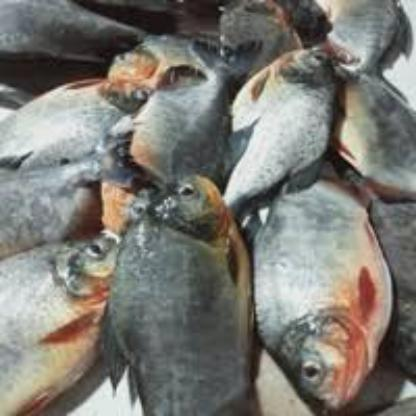ikan-pacu: (112, 177, 252, 415), (252, 166, 394, 400), (0, 231, 120, 415), (218, 43, 340, 203)
